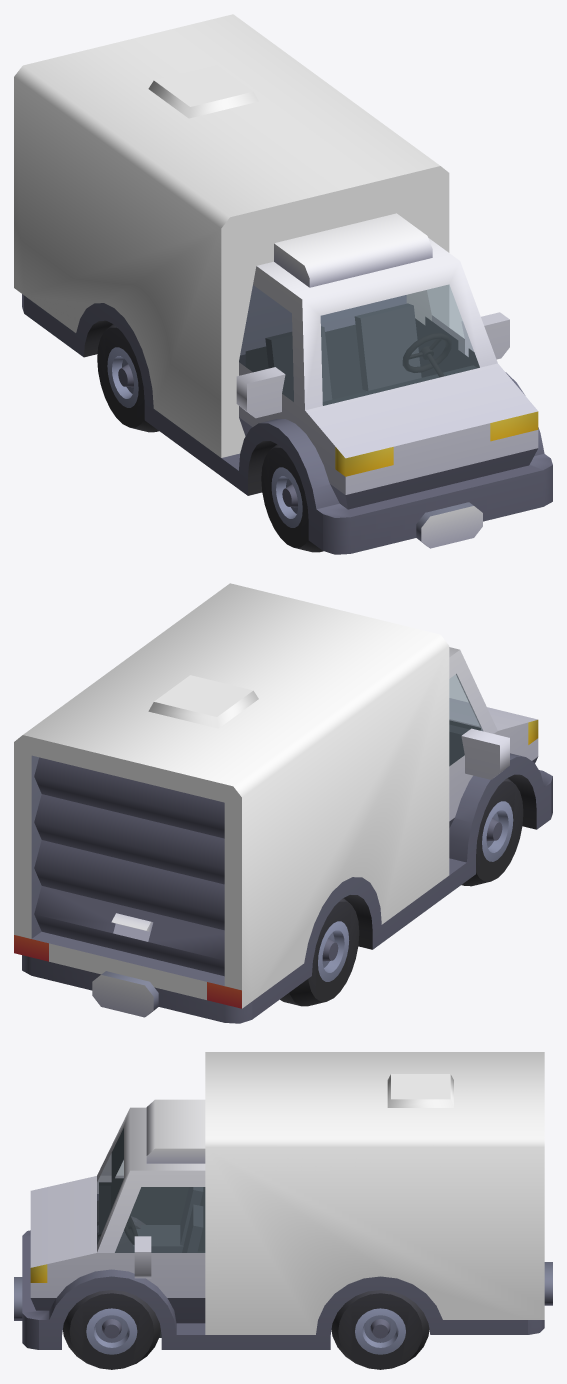
Rendered from cargo.glb.
3 views of the same model, one above another, from view 1: azimuth 30°, elevation 25°; view 2: azimuth 150°, elevation 25°; view 3: azimuth 270°, elevation 25° (orthographic). The views are drawn at different scales.
Visible parts, largest first — view 1: paint, body, glass, interior, door-front-right-glass, wheel-front-right, wheel-back-right, door-front-right-panel, door-front-right-paint, steering-wheel, door-front-left-glass; view 2: paint, body, wheel-back-right, wheel-front-right, door-front-right-panel, door-front-right-glass, door-front-right-paint, glass, interior; view 3: paint, body, wheel-back-left, wheel-front-left, door-front-left-panel, interior, door-front-left-glass, door-front-left-paint, glass, door-front-right-trim.
Boxes of the visible parts, <box> form: paint: <box>14,14,449,457</box>; body: <box>22,213,552,554</box>; glass: <box>321,285,479,405</box>; interior: <box>245,303,479,405</box>; door-front-right-glass: <box>239,285,293,401</box>; wheel-front-right: <box>261,444,323,552</box>; wheel-back-right: <box>97,324,158,432</box>; door-front-right-panel: <box>236,313,303,474</box>; door-front-right-paint: <box>213,287,221,457</box>; steering-wheel: <box>402,333,451,377</box>; door-front-left-glass: <box>427,285,463,337</box>; paint: <box>14,583,449,1008</box>; body: <box>14,647,552,1023</box>; wheel-back-right: <box>280,898,359,1006</box>; wheel-front-right: <box>461,778,523,886</box>; door-front-right-panel: <box>449,666,509,861</box>; door-front-right-glass: <box>449,674,482,765</box>; door-front-right-paint: <box>441,710,449,880</box>; glass: <box>449,675,478,725</box>; interior: <box>449,720,480,765</box>; paint: <box>205,1052,544,1334</box>; body: <box>14,1099,552,1349</box>; wheel-back-left: <box>331,1290,429,1369</box>; wheel-front-left: <box>63,1290,160,1369</box>; door-front-left-panel: <box>111,1187,205,1334</box>; interior: <box>99,1182,205,1337</box>; door-front-left-glass: <box>115,1187,204,1252</box>; door-front-left-paint: <box>205,1199,218,1334</box>; glass: <box>97,1128,123,1244</box>; door-front-right-trim: <box>111,1128,205,1252</box>.
Size of the model in its own units: 2.48 by 2.72 by 5.36.
Materials: 4 (1 with a texture image).
